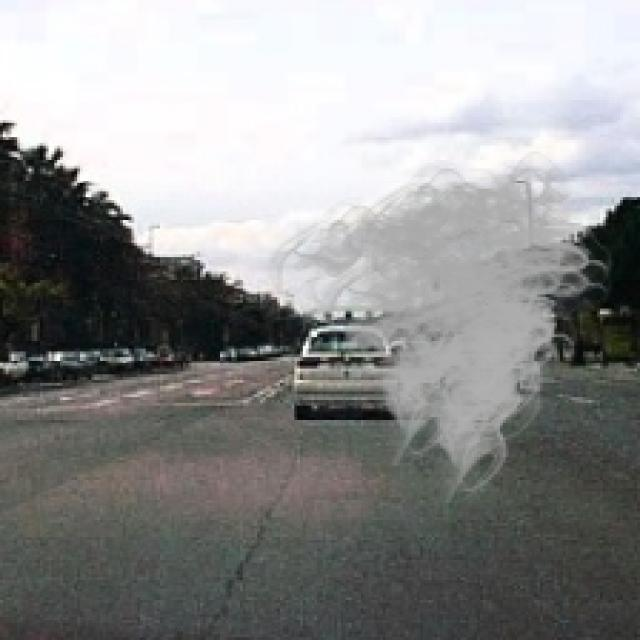Smoke: (263, 143, 623, 503)
